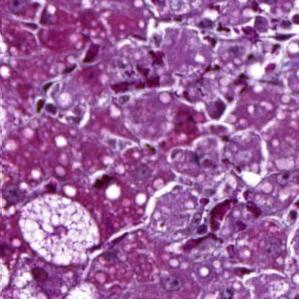ballooning: (18, 193, 102, 269)
